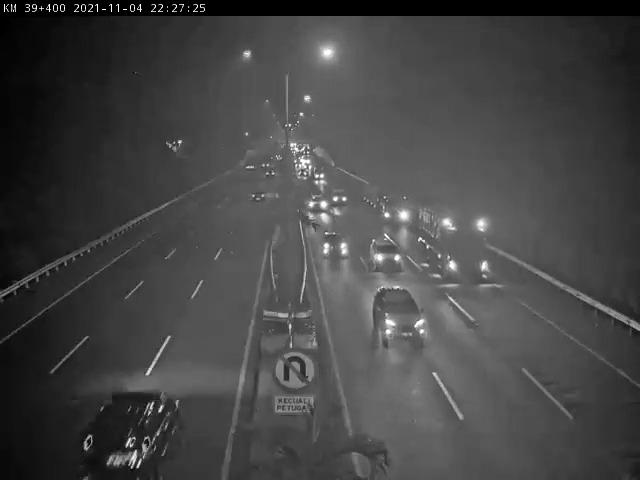car: (82, 391, 178, 480), (370, 286, 427, 346), (370, 237, 403, 268), (321, 230, 349, 255), (307, 193, 330, 213), (247, 190, 268, 207), (329, 189, 344, 205)
truck-xl-: (422, 206, 494, 282), (363, 188, 409, 227)
